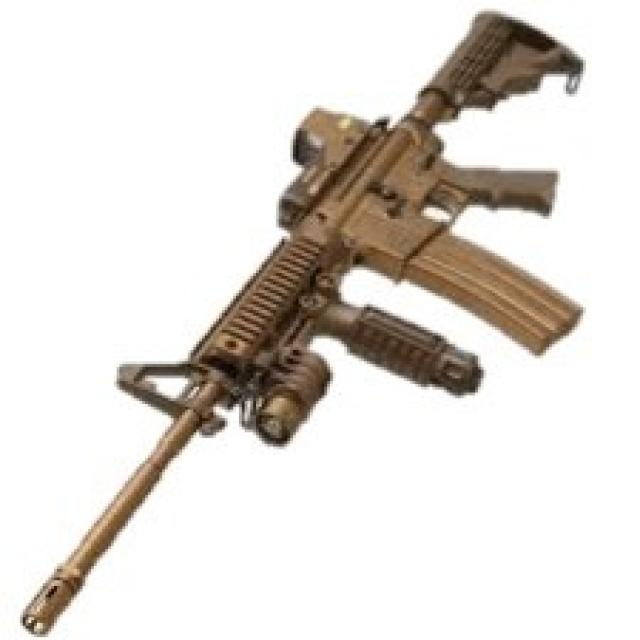rifle: (21, 4, 590, 640)
